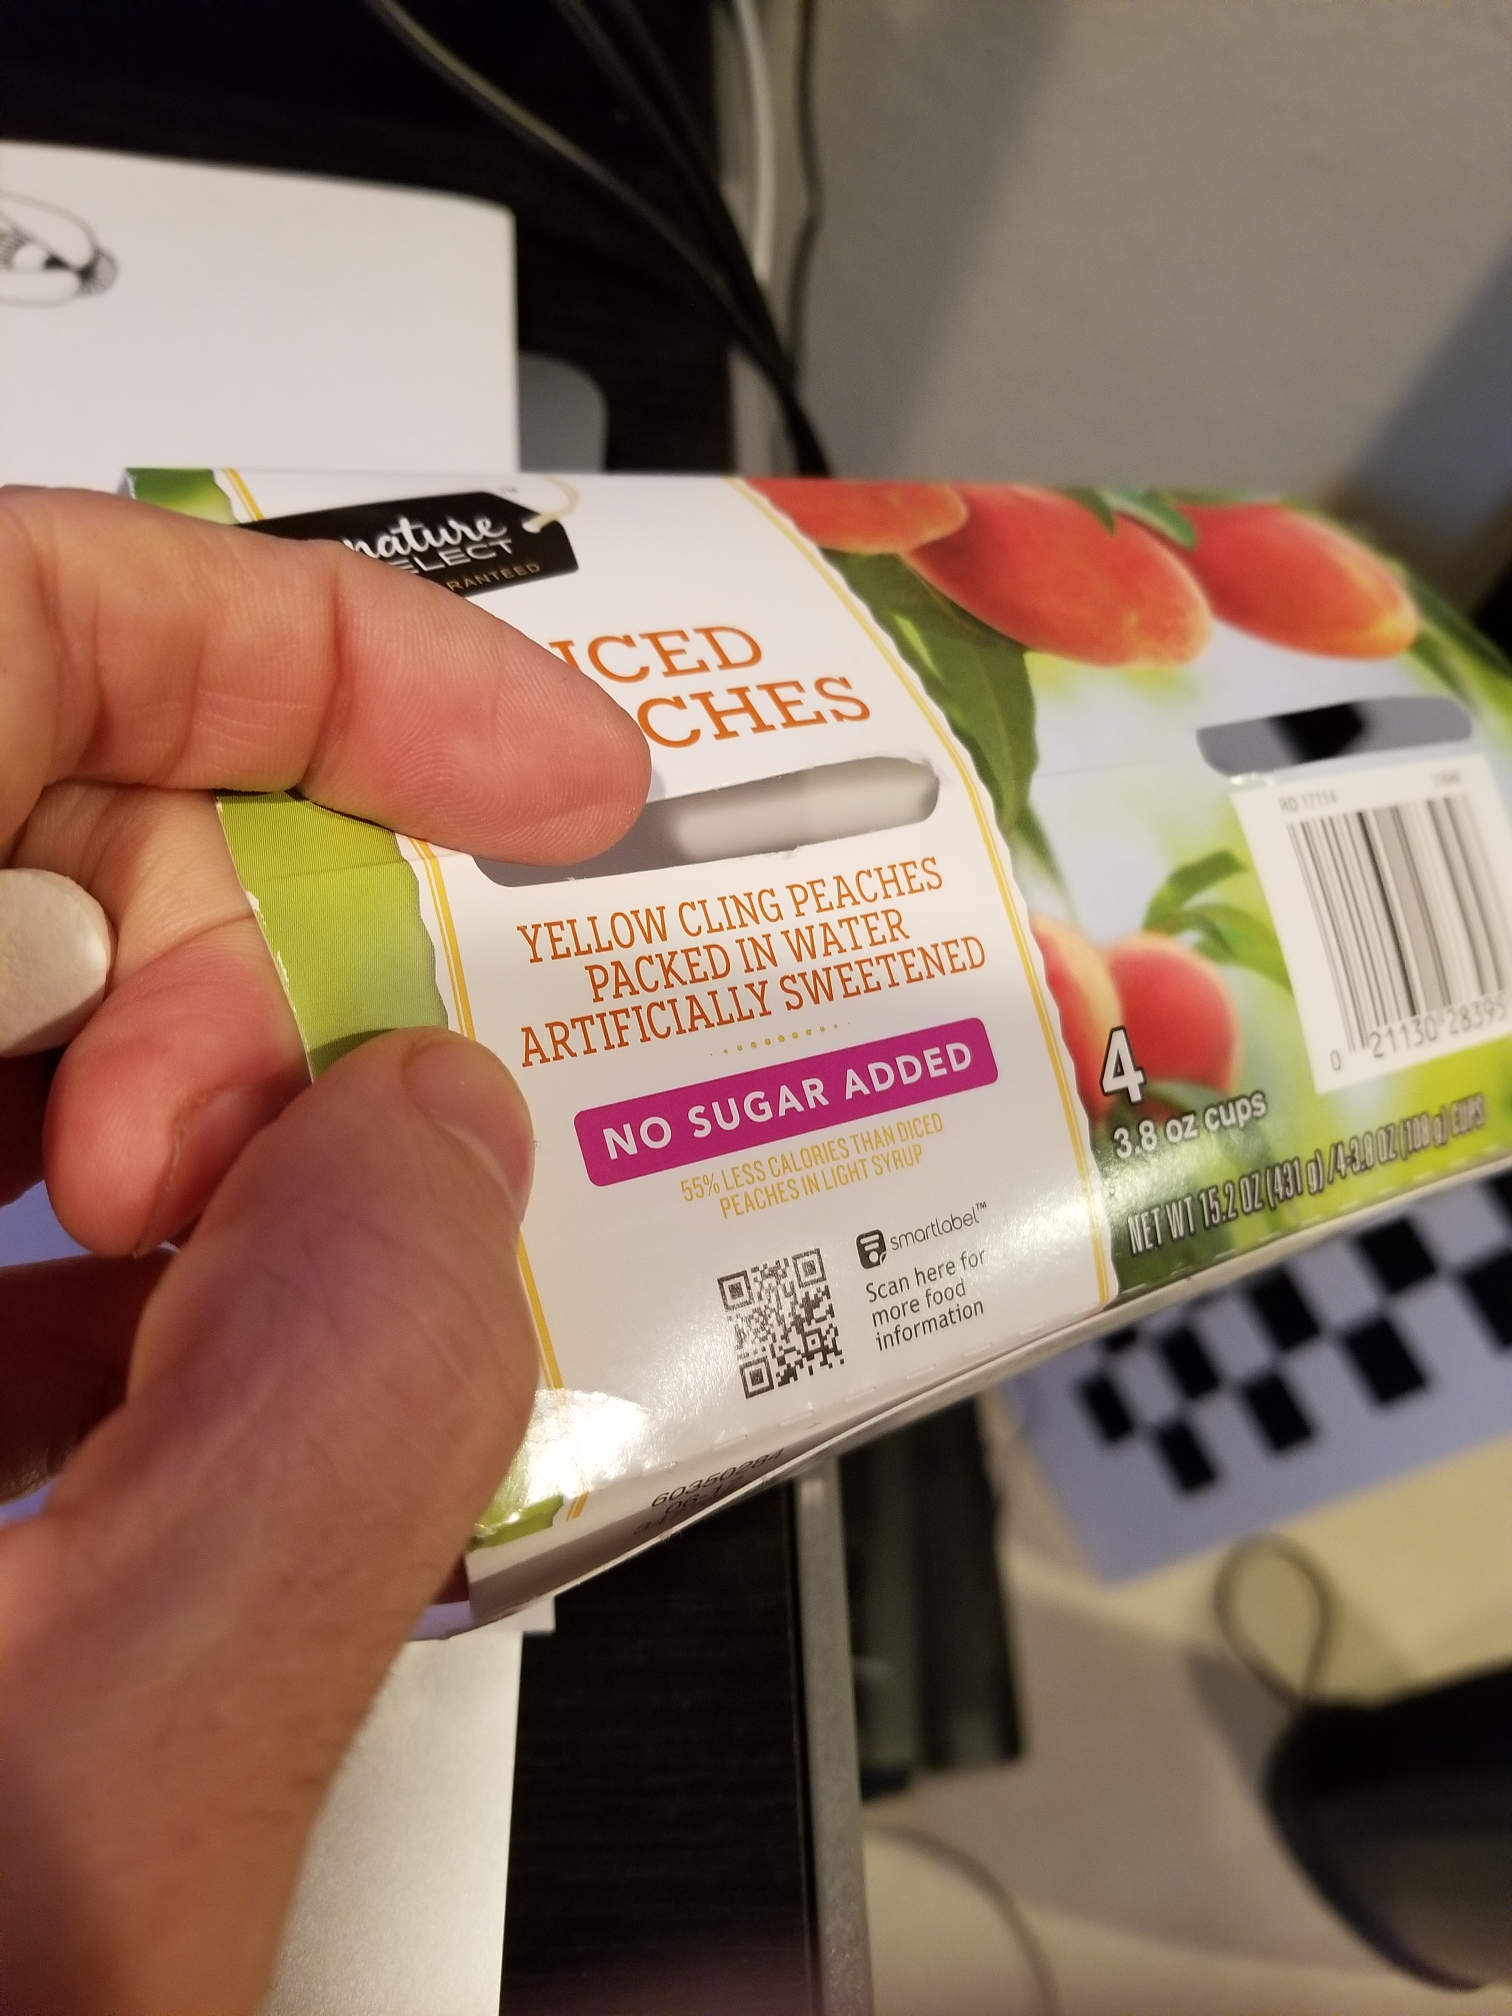QR_CODE: (689, 1216, 866, 1422)
